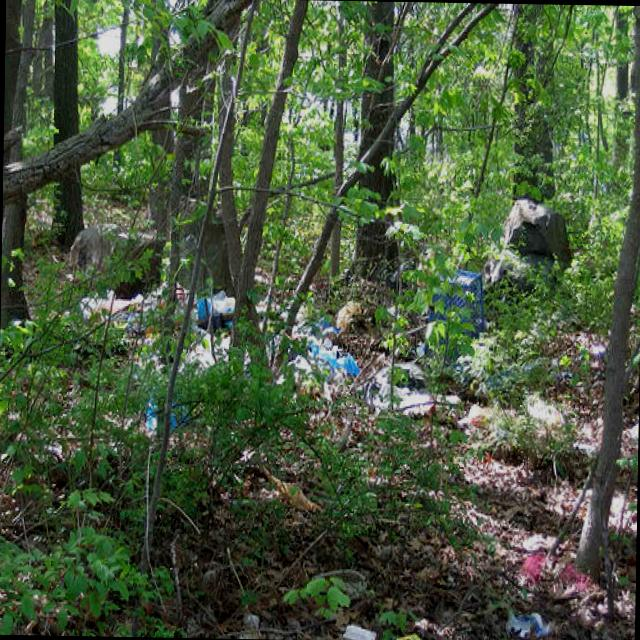garbage: (78, 259, 510, 521)
